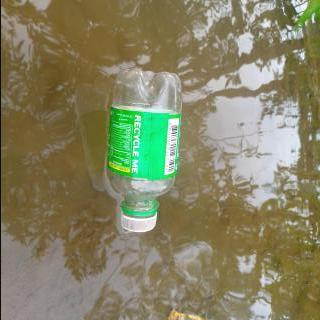bottle: (105, 69, 183, 232)
